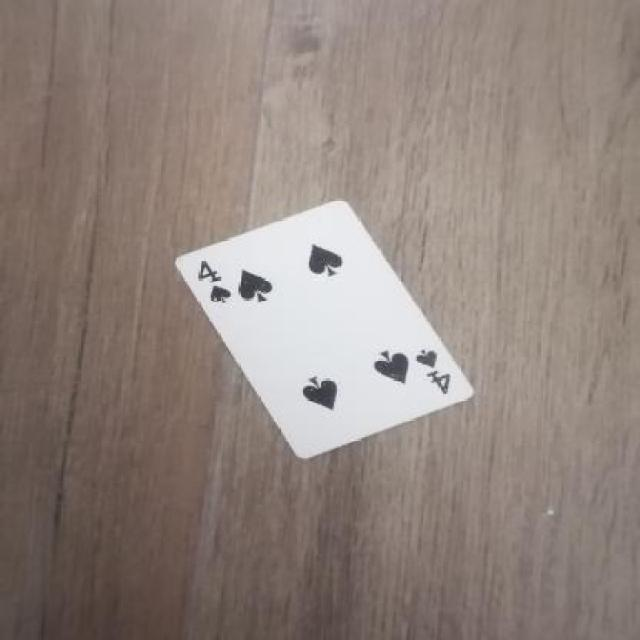4S: (176, 243, 233, 322), (400, 335, 458, 402)
